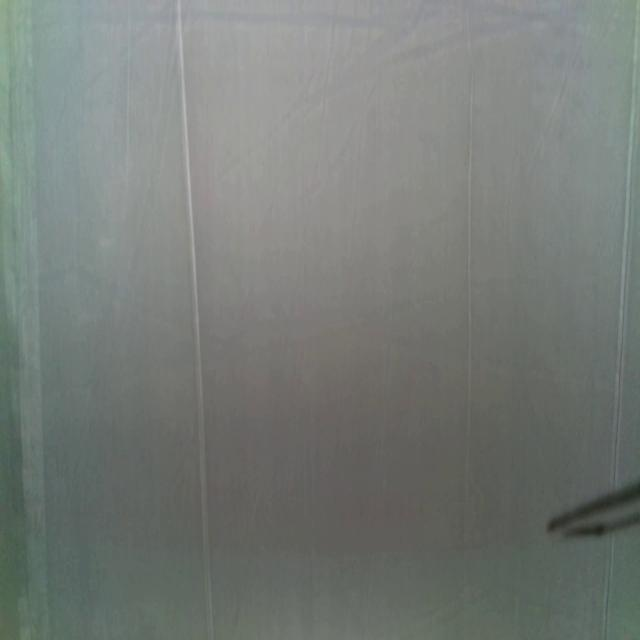crease: (0, 0, 50, 635), (177, 1, 214, 636), (611, 2, 640, 481), (462, 0, 474, 433), (124, 2, 133, 184), (602, 532, 615, 640)
